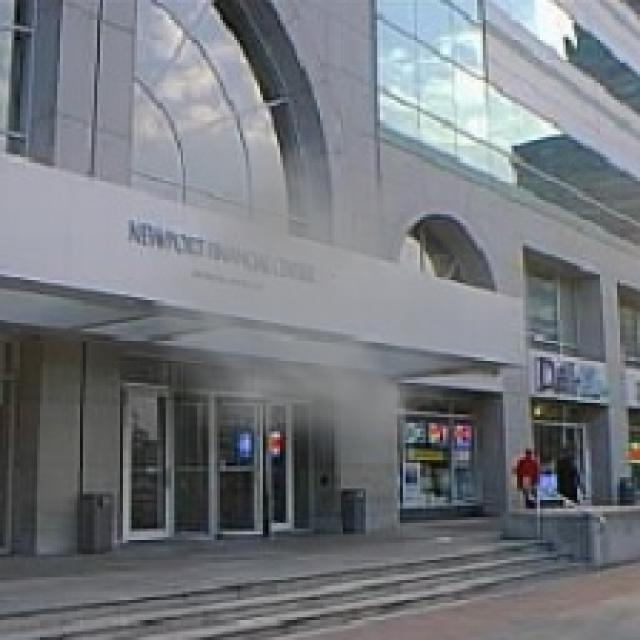Smoke: (122, 106, 498, 463)
